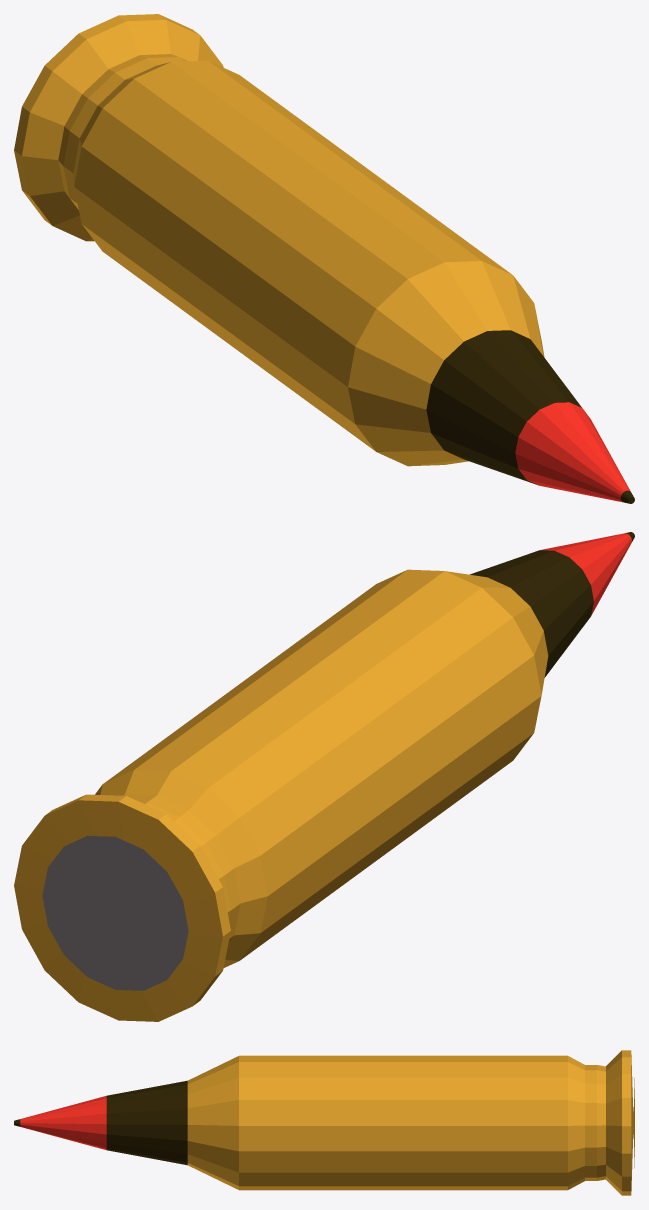
Rendered from municao.glb.
The picture shows the model from 3 angles, top to bottom: view 1: azimuth 30°, elevation 25°; view 2: azimuth 150°, elevation 25°; view 3: azimuth 270°, elevation 25°; orthographic projection. The views are drawn at different scales.
Parts seen in each view (by area): view 1: Bala de Arma; view 2: Bala de Arma; view 3: Bala de Arma.
Boxes of the visible parts, bbox=[...] form: Bala de Arma: bbox=[14, 14, 634, 503]; Bala de Arma: bbox=[14, 532, 634, 1021]; Bala de Arma: bbox=[14, 1050, 634, 1195].
Size of the model in its own units: 101 by 101 by 434.
